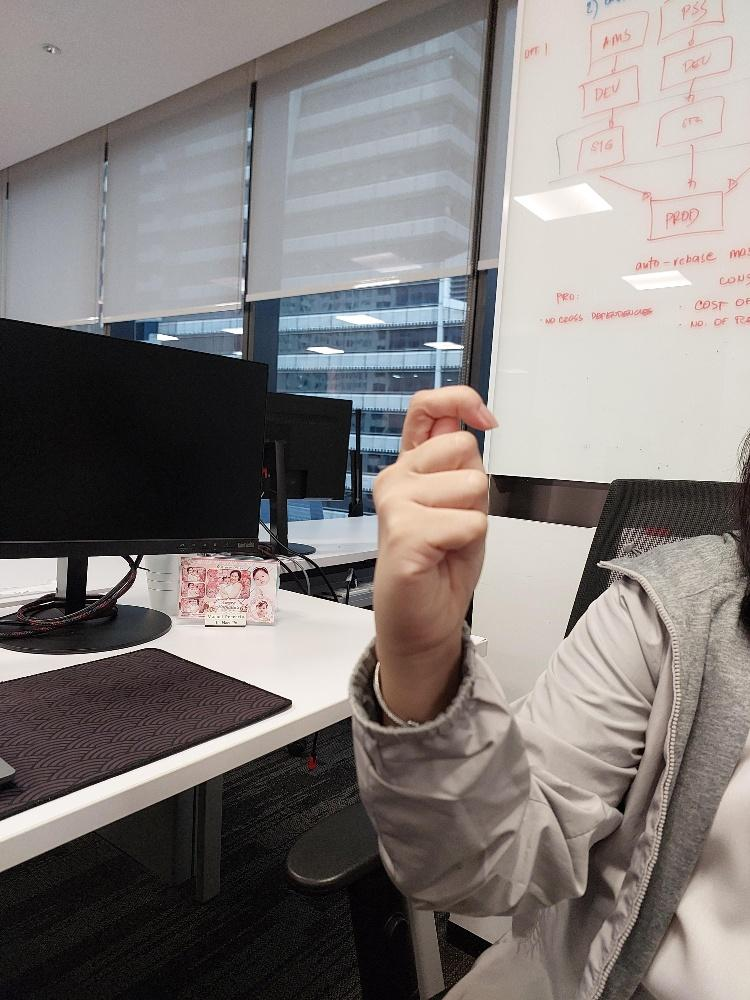t: (369, 385, 498, 655)
